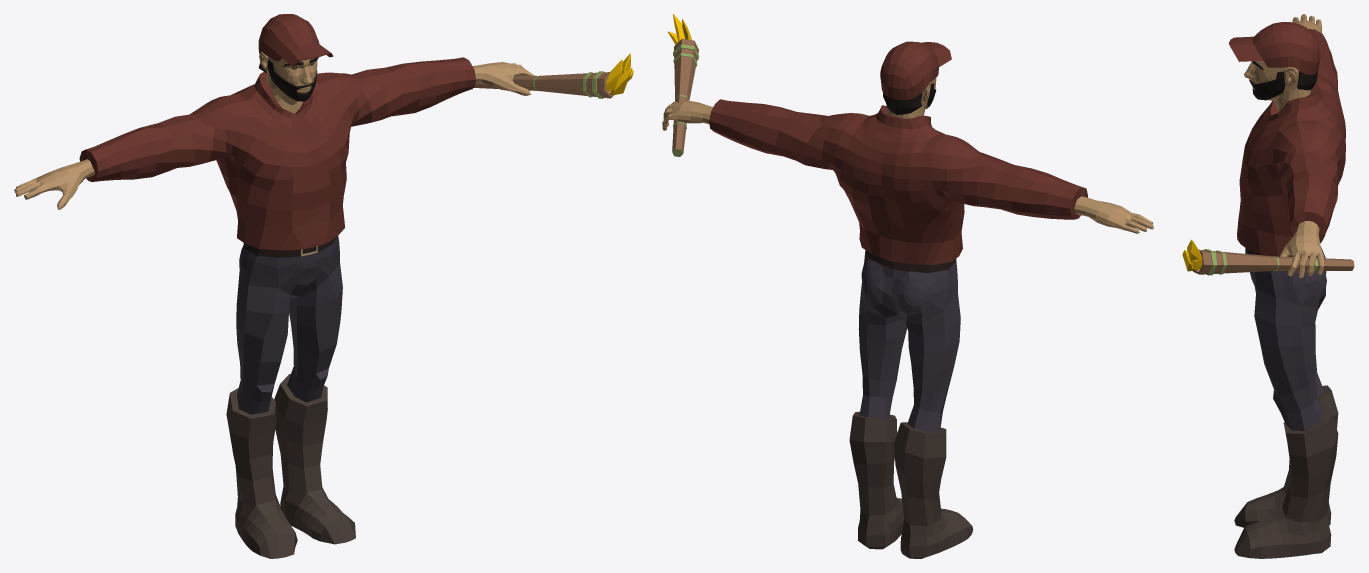
Rendered from Male_LP_with_fire(1).fbx.
3 renders of one model, left to right at view 1: azimuth 30°, elevation 25°; view 2: azimuth 150°, elevation 25°; view 3: azimuth 270°, elevation 25°, orthographic. The views are drawn at different scales.
Visible parts, largest first — view 1: Man_Fire_LP; view 2: Man_Fire_LP; view 3: Man_Fire_LP.
Boxes of the visible parts, x1=… form: Man_Fire_LP: x1=14, y1=14, x2=633, y2=558; Man_Fire_LP: x1=662, y1=14, x2=1153, y2=558; Man_Fire_LP: x1=1182, y1=14, x2=1354, y2=558.
Size of the model in its own units: 40.36 by 35.43 by 10.75.
Materials: 5 (1 with a texture image).
